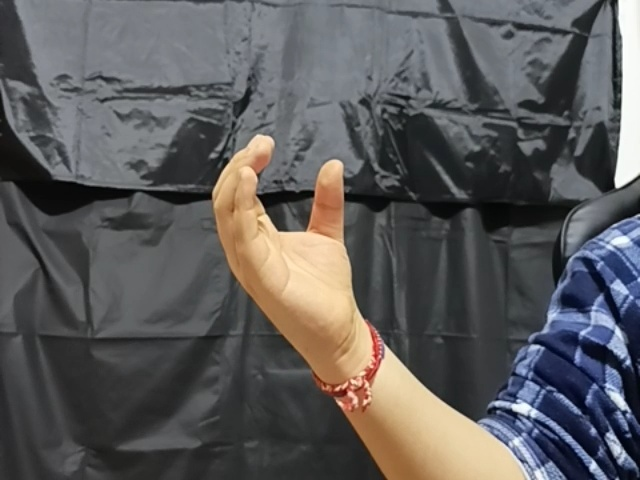C: (208, 132, 373, 344)
